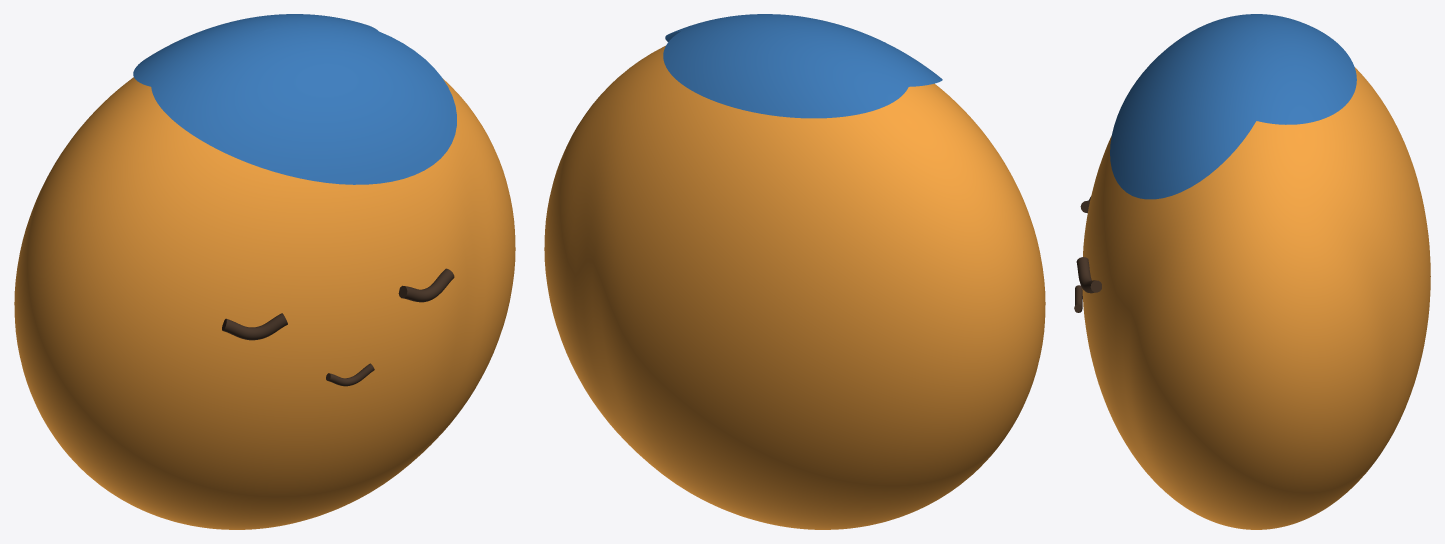
The model's file is vibi-estados.glb.
3 views of the same model, side by side, from view 1: azimuth 30°, elevation 25°; view 2: azimuth 150°, elevation 25°; view 3: azimuth 270°, elevation 25° (orthographic). The views are drawn at different scales.
Visible parts, largest first — view 1: Cuerpo - deformacion real.002, Mechon azul.002, Ojo izquierdo.005, Ojo derecho.005; view 2: Cuerpo - deformacion real.002, Mechon azul.002; view 3: Cuerpo - deformacion real.002, Mechon azul.002, Ojo derecho.005.
Boxes of the visible parts, x1,y1,x2,y2 form: Cuerpo - deformacion real.002: (14, 77, 515, 529); Mechon azul.002: (133, 14, 456, 184); Ojo izquierdo.005: (222, 313, 287, 340); Ojo derecho.005: (398, 268, 454, 302); Cuerpo - deformacion real.002: (544, 45, 1045, 529); Mechon azul.002: (663, 14, 942, 118); Cuerpo - deformacion real.002: (1082, 67, 1430, 529); Mechon azul.002: (1110, 14, 1356, 199); Ojo derecho.005: (1076, 257, 1101, 293).
Size of the model in its own units: 2.26 by 2.24 by 1.55.
